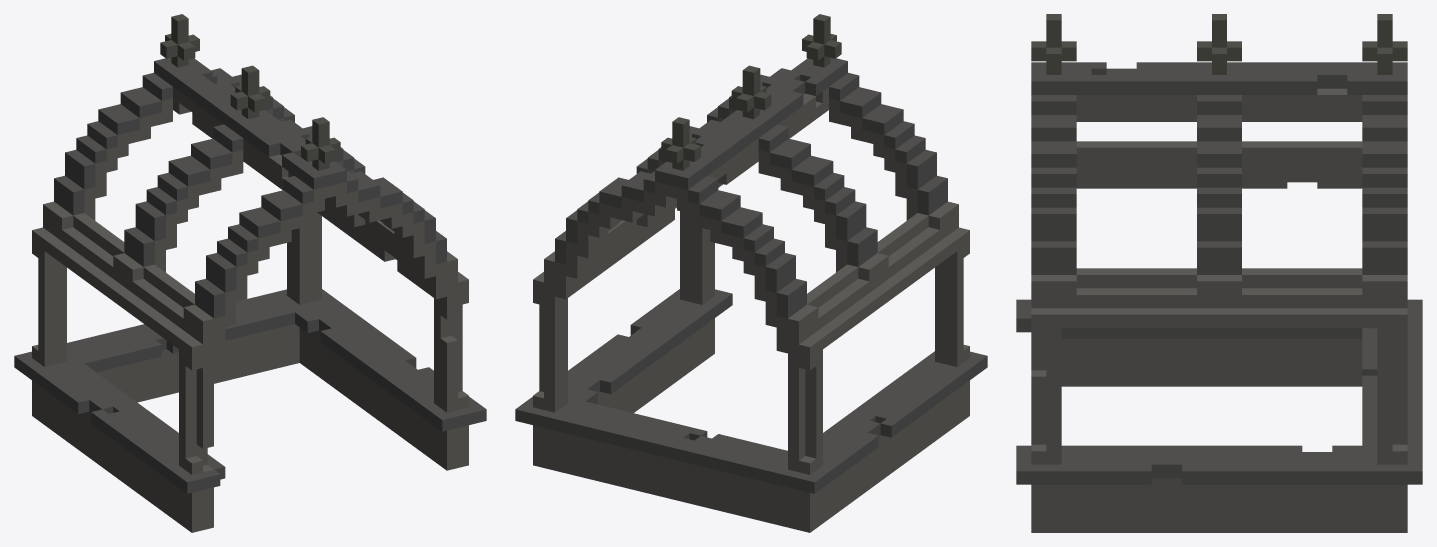
The model's file is church-64-gy_monu2.obj.
3 views of the same model, side by side, from view 1: azimuth 30°, elevation 25°; view 2: azimuth 150°, elevation 25°; view 3: azimuth 270°, elevation 25° (orthographic). The views are drawn at different scales.
Parts seen in each view (by area): view 1: gy_monu2; view 2: gy_monu2; view 3: gy_monu2.
Part boxes in pixels (box(x1,y1,x2,y2)): gy_monu2: box(14, 14, 486, 532); gy_monu2: box(515, 14, 987, 532); gy_monu2: box(1016, 14, 1422, 532).
Bounding box in the file's own units: 2.7 × 3.2 × 2.7.
Materials: 1 (1 with a texture image).
